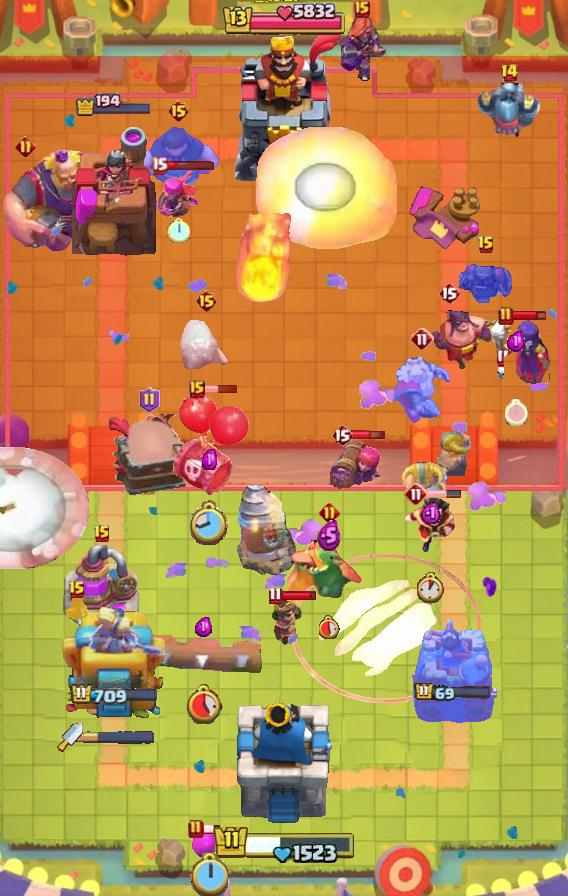axe: (482, 317, 550, 385)
bar: (60, 607, 168, 731)
barbarian-barrel: (63, 590, 91, 622)
battle-ram: (456, 260, 516, 306)
bomber-evolution: (268, 593, 306, 649)
clock: (212, 821, 356, 863), (221, 0, 347, 40)
dart-goblin: (108, 414, 193, 496)
electro-spirit: (317, 520, 341, 551), (420, 501, 439, 524), (507, 330, 525, 352), (195, 616, 213, 637), (202, 449, 217, 471)
electro-wizard: (287, 515, 371, 601)
elixir: (190, 500, 229, 547), (190, 852, 228, 896), (185, 683, 224, 724), (414, 572, 445, 604), (505, 398, 528, 425), (166, 217, 189, 243), (320, 615, 341, 639)
elixir-golem-small: (476, 71, 542, 139)
emote: (165, 161, 215, 172), (350, 427, 385, 441), (513, 310, 548, 323), (281, 591, 319, 602), (202, 384, 238, 394), (426, 489, 462, 499), (201, 823, 221, 835)
evolution-symbol: (140, 168, 204, 224)
goblin-giant: (400, 460, 448, 503), (437, 430, 473, 477)
ice-wizard: (291, 553, 480, 703)
king-tower: (223, 31, 345, 181), (235, 703, 333, 826)
king-tower-bar: (83, 730, 155, 744)
lightning: (0, 149, 120, 255)
lumberjack: (402, 496, 458, 554)
magic-archer: (236, 484, 296, 576)
mega-minion: (330, 438, 386, 500)
miner: (191, 830, 227, 860)
minion: (141, 635, 265, 675)
monk: (429, 294, 495, 372)
mortar-evolution: (390, 353, 454, 425)
pekka: (63, 545, 141, 627)
queen-tower: (72, 122, 156, 256), (409, 616, 497, 731)
royal-hog: (135, 126, 221, 204)
royal-recruit-evolution: (168, 393, 250, 499)
selected: (69, 683, 158, 707), (75, 93, 153, 117), (414, 681, 492, 702)
tesla: (180, 317, 232, 369)
tesla-evolution: (336, 12, 388, 84)
text: (410, 327, 434, 351), (404, 482, 428, 506), (166, 99, 189, 123), (194, 289, 217, 313), (140, 387, 161, 413), (438, 281, 460, 305), (331, 423, 353, 447), (16, 135, 37, 156), (320, 502, 341, 523), (500, 63, 519, 83), (477, 235, 495, 255), (93, 524, 111, 544), (68, 580, 86, 600), (151, 157, 169, 175), (498, 306, 514, 326), (188, 819, 204, 839), (354, 0, 370, 18), (189, 380, 205, 398), (268, 587, 283, 606)
valkyrie: (248, 127, 404, 249), (231, 213, 293, 305)
wall-breaker: (0, 447, 88, 569)
